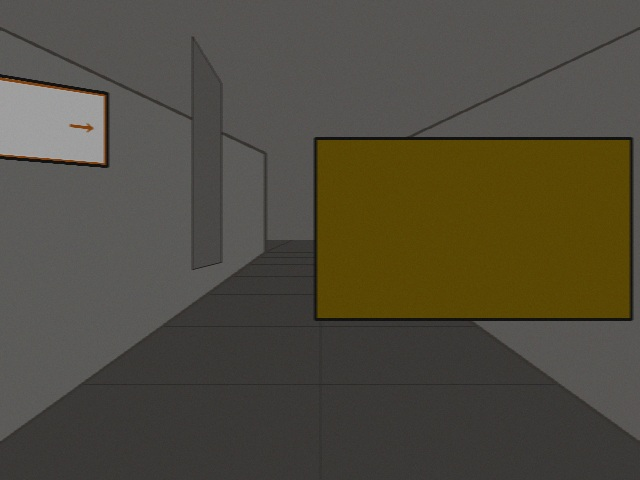directional_sign: (0, 63, 107, 166)
forklift: (315, 138, 631, 319)
